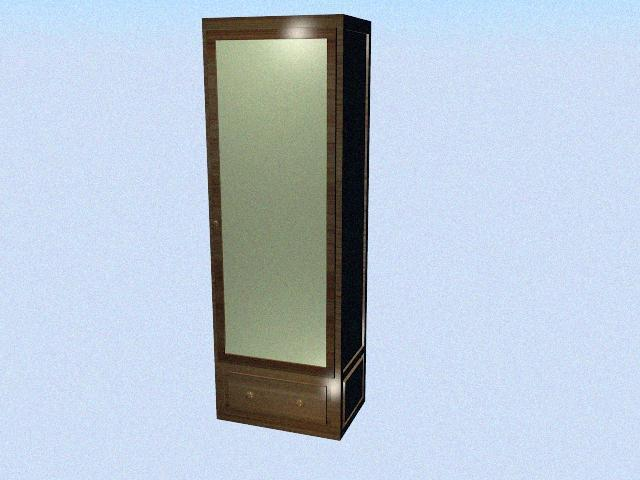cabinet_door: (208, 29, 337, 372), (228, 380, 326, 418)
handle: (291, 396, 306, 410), (243, 389, 256, 402), (212, 217, 221, 231)
